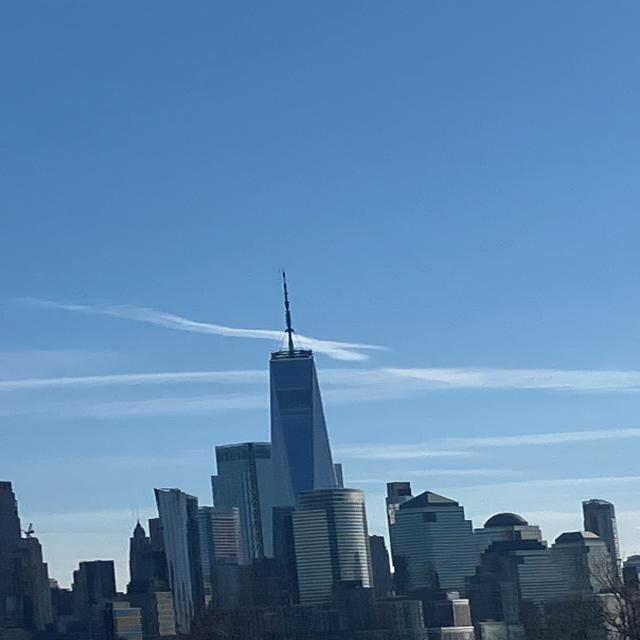WTC: (265, 270, 331, 495)
